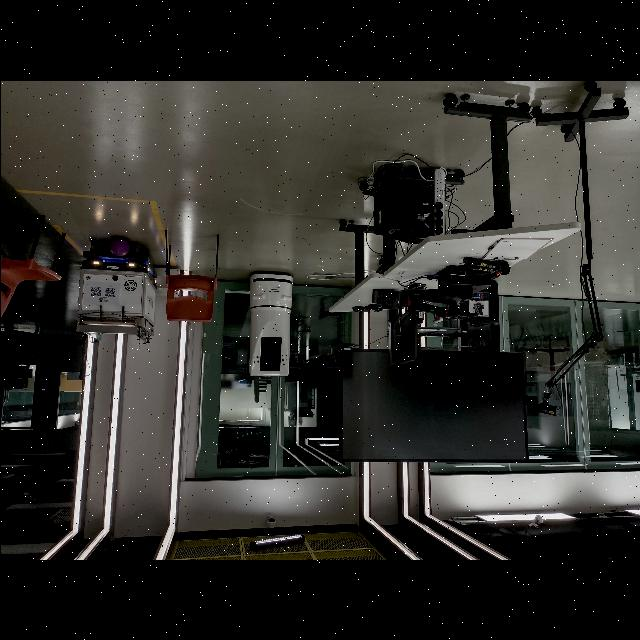P: (109, 237, 129, 256)
